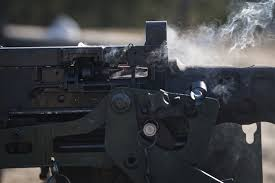gun: (1, 17, 273, 180)
